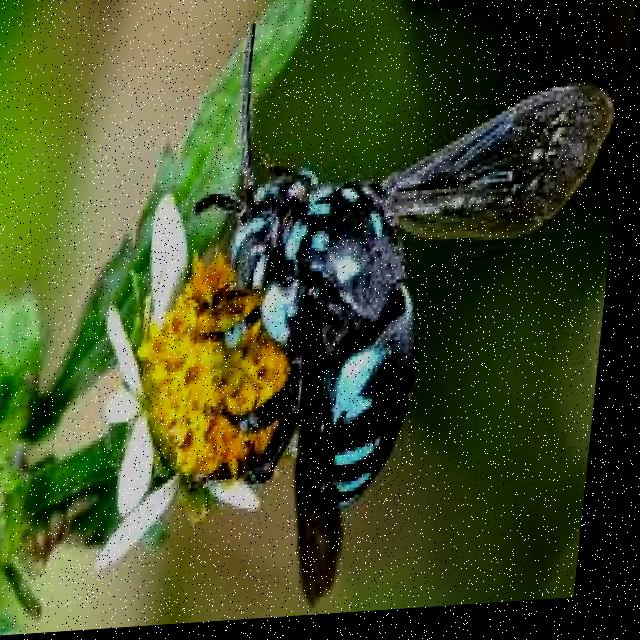Thyreus: (144, 0, 616, 590)
